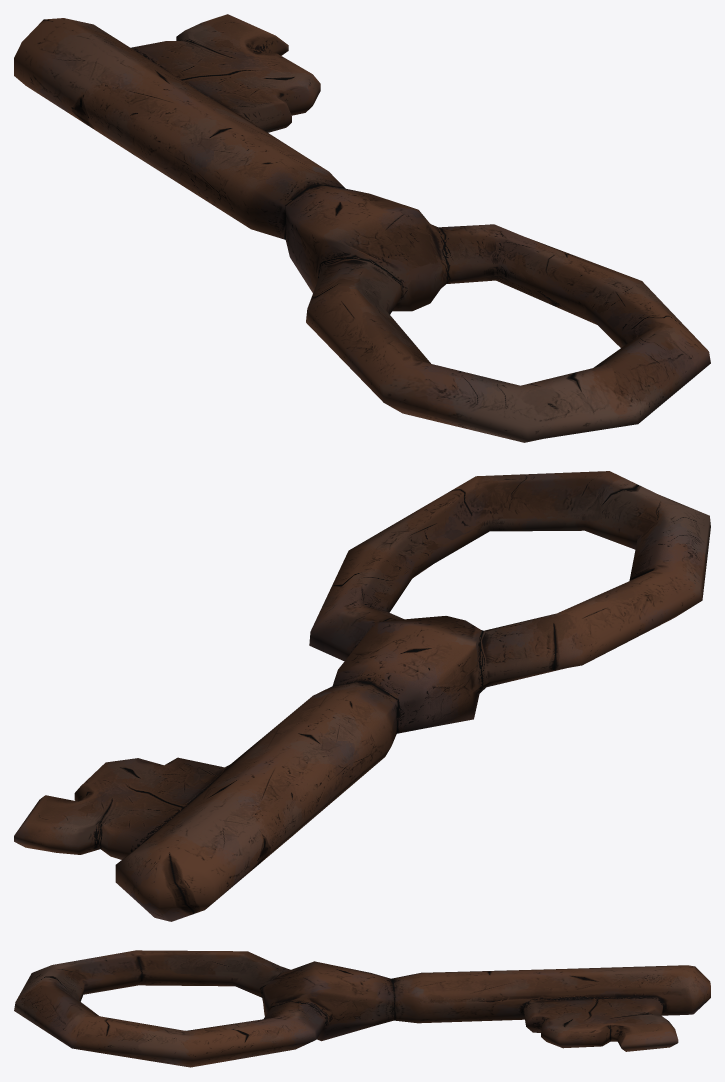
Rendered from key.fbx.
The picture shows the model from 3 angles, top to bottom: view 1: azimuth 30°, elevation 25°; view 2: azimuth 150°, elevation 25°; view 3: azimuth 270°, elevation 25°; orthographic projection. The views are drawn at different scales.
Parts seen in each view (by area): view 1: Stylized key lp; view 2: Stylized key lp; view 3: Stylized key lp.
Part boxes in pixels (x1=…): Stylized key lp: x1=14, y1=14, x2=710, y2=442; Stylized key lp: x1=14, y1=471, x2=710, y2=921; Stylized key lp: x1=14, y1=950, x2=710, y2=1067.
Size of the model in its own units: 3.37 by 0.8444 by 10.19.
